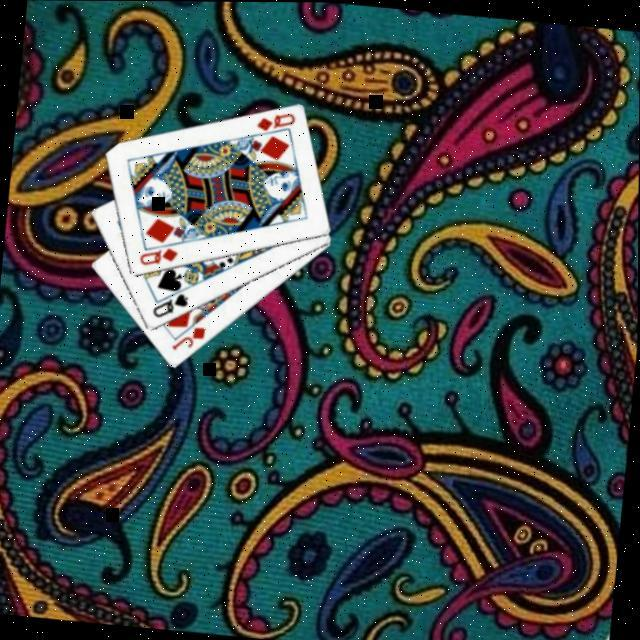JD: (170, 323, 211, 358)
QD: (137, 243, 183, 273), (254, 108, 300, 138)
QS: (150, 289, 193, 324)
